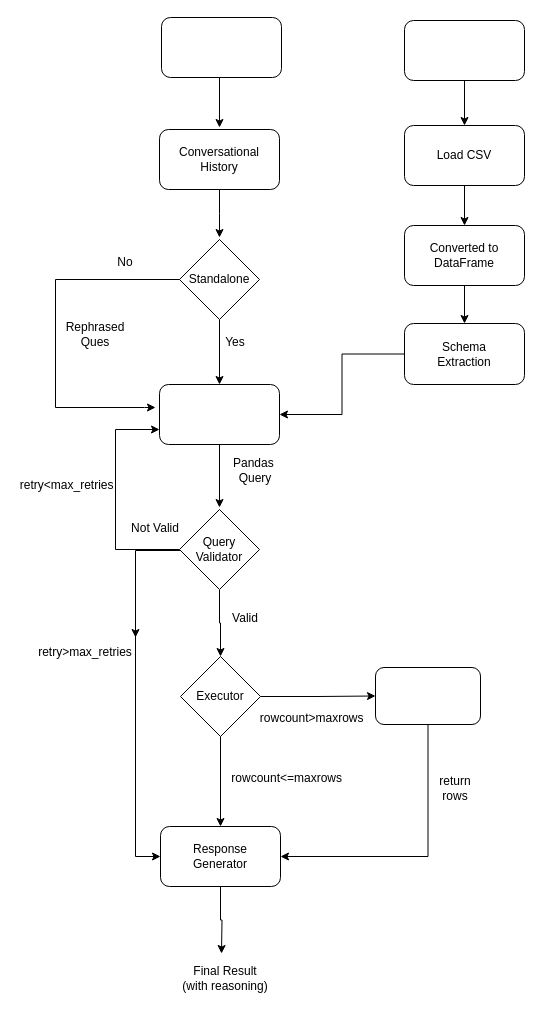
Image size: 542x1021. Some labels were removed from this diagram. The box of each missing label's shape, as (x1, y1, x2, y2) in pixels:
CSV Files: (404, 20, 524, 80)
Query Generator: (158, 384, 280, 444)
Result Sampler: (374, 666, 480, 724)
User Input: (160, 16, 282, 78)
